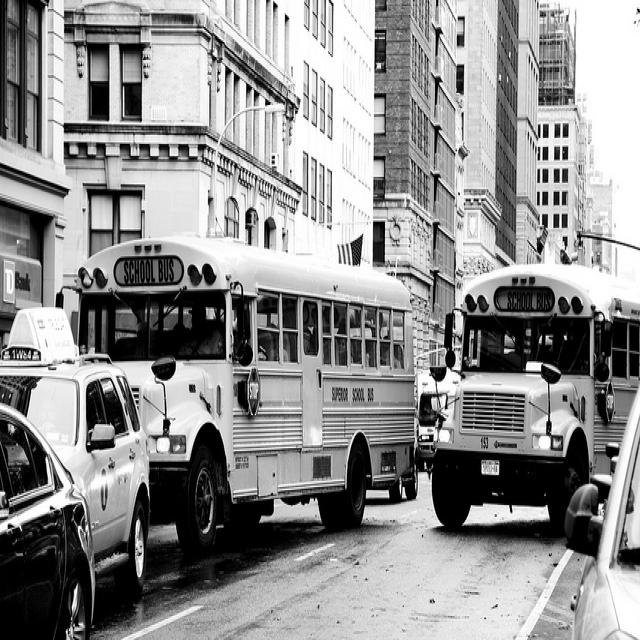Vehicle: (62, 226, 428, 559), (429, 262, 640, 534), (1, 304, 155, 600), (3, 404, 96, 631), (563, 376, 640, 639)
